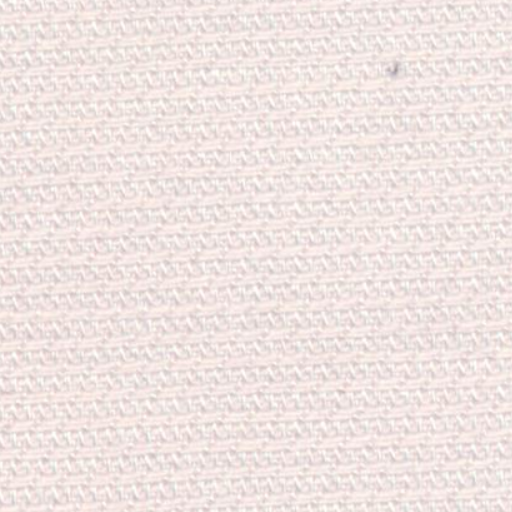WuZi: (368, 47, 414, 90)
